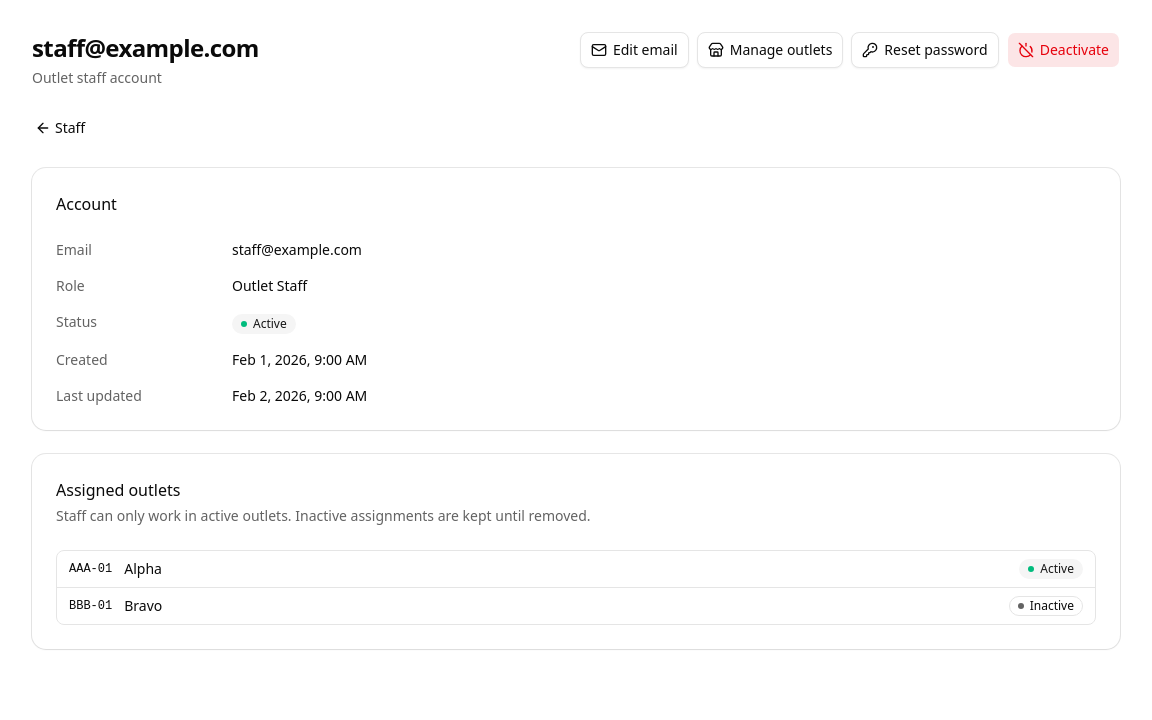
Test: Outlet assignments › keeps existing inactive assignments, blocks new inactive ones, and submits the full set
Click the button "Manage outlets" at (770, 50), box [697, 32, 843, 68]
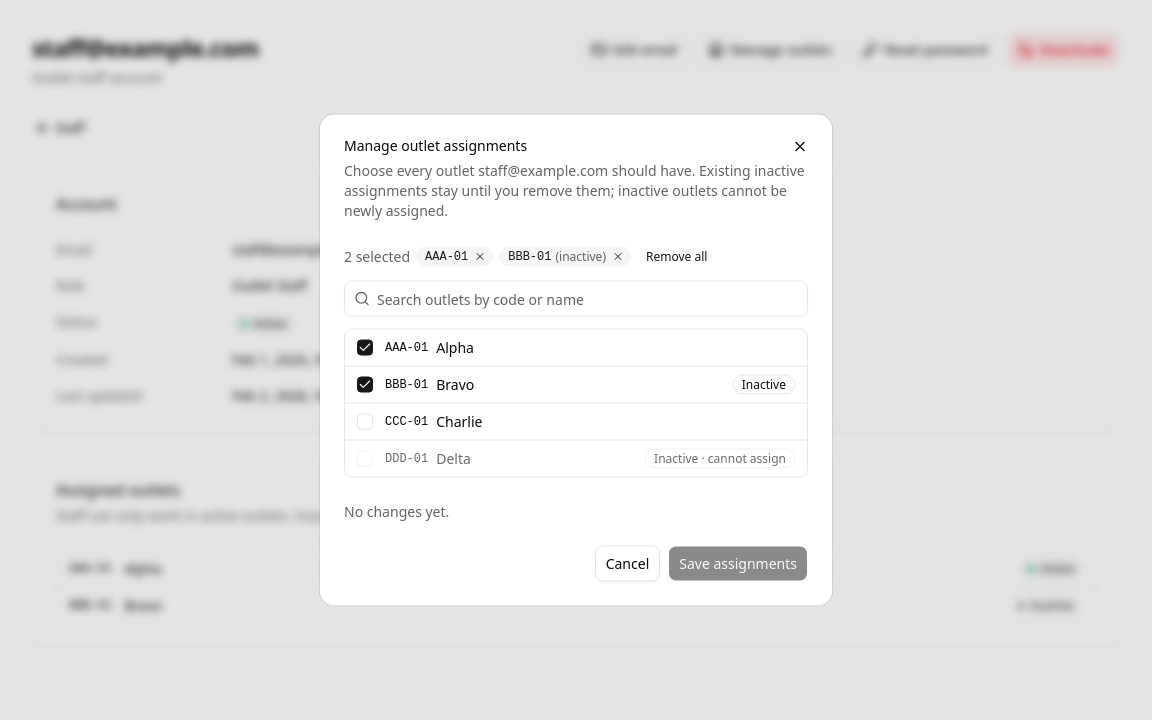
Expected: the 1st checkbox named "AAA-01" is shown, [357, 340, 373, 356]
Expected: the 2nd checkbox named "BBB-01" is checked, [357, 376, 373, 392]
Expected: the 2nd checkbox named "BBB-01" is enabled, [357, 376, 373, 392]
Click the checkbox named "CCC-01" next to "CCC-01" at (365, 422), box [357, 414, 373, 430]
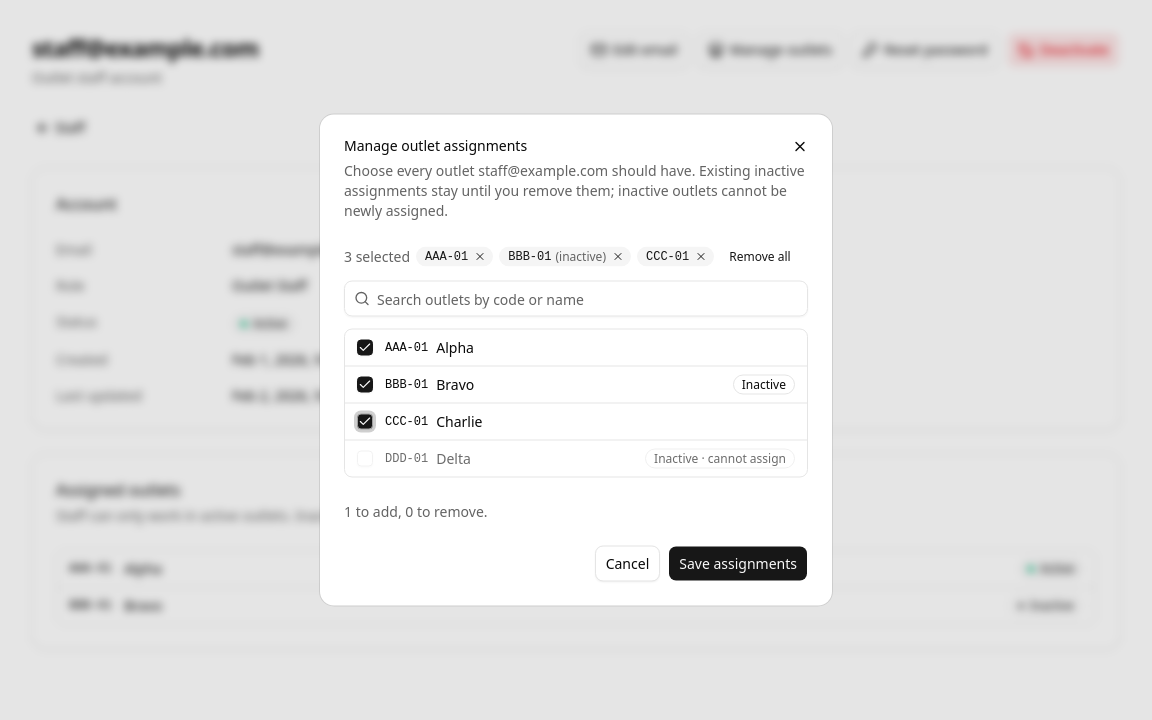
Type "zzz" into the search field labelled "Search outlets by code or name" at (576, 298), box [344, 280, 808, 316]
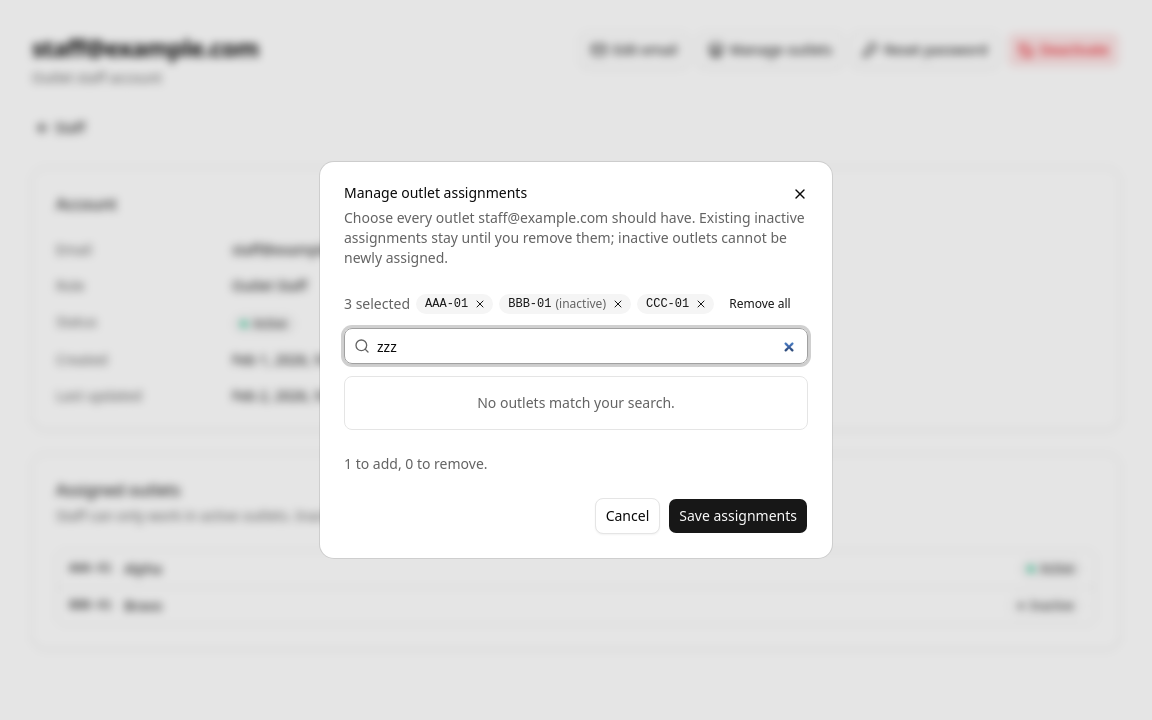
Expected: the text "3 selected" is shown, [344, 294, 410, 314]
Expected: the text "1 to add, 0 to remove." is shown, [344, 454, 488, 473]
Expected: the text "No outlets match your search." is shown, [477, 393, 675, 412]
Click the button "Save assignments" at (738, 516), box [668, 498, 808, 534]
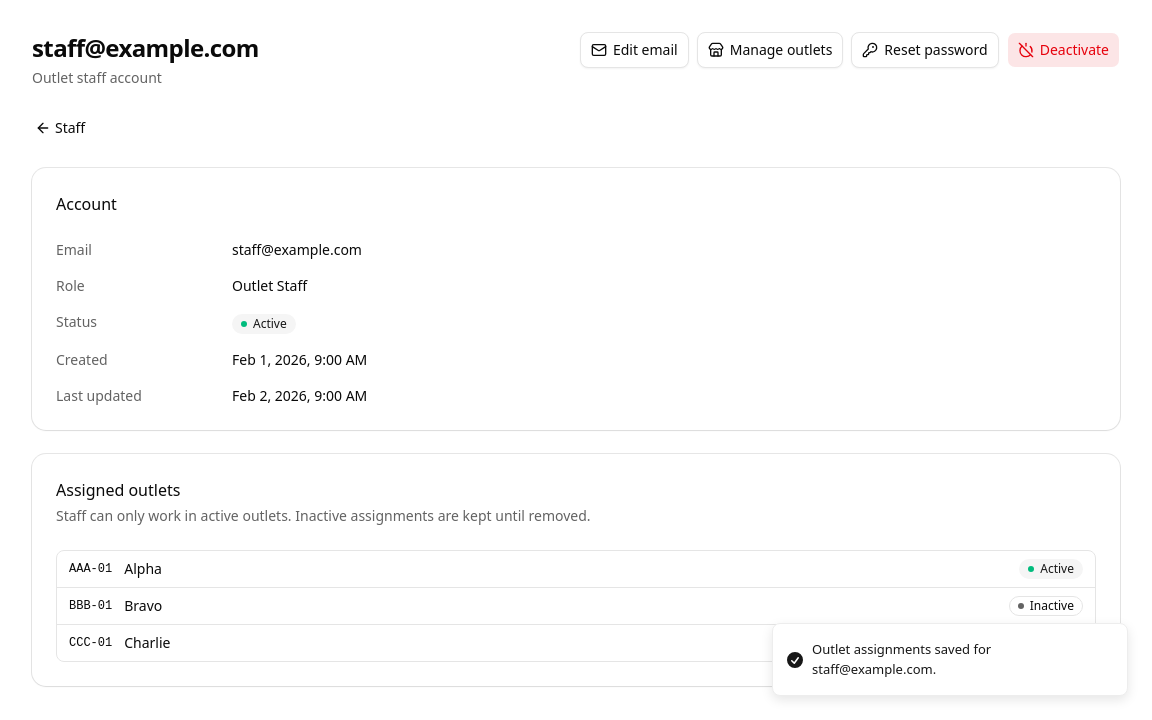
Expected: the text "Outlet assignments saved for staff@example.com." is shown, [812, 640, 991, 678]
Expected: the link "Charlie" is shown, [124, 633, 170, 652]
